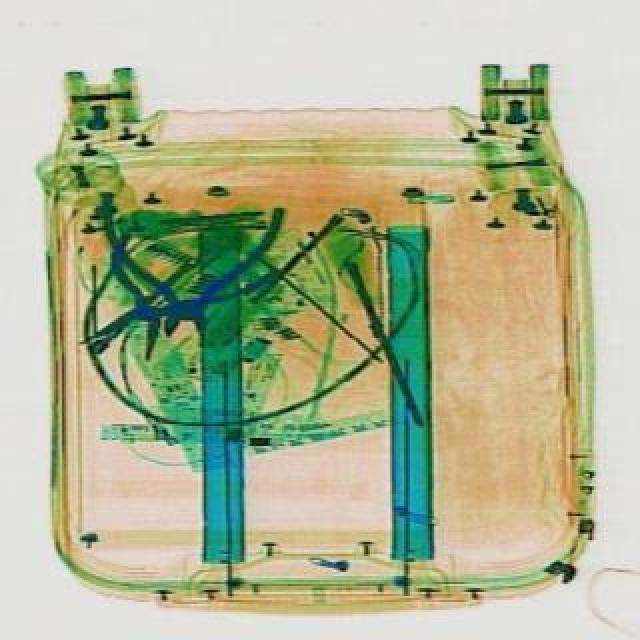wrench: (76, 214, 276, 390), (98, 190, 284, 334)
